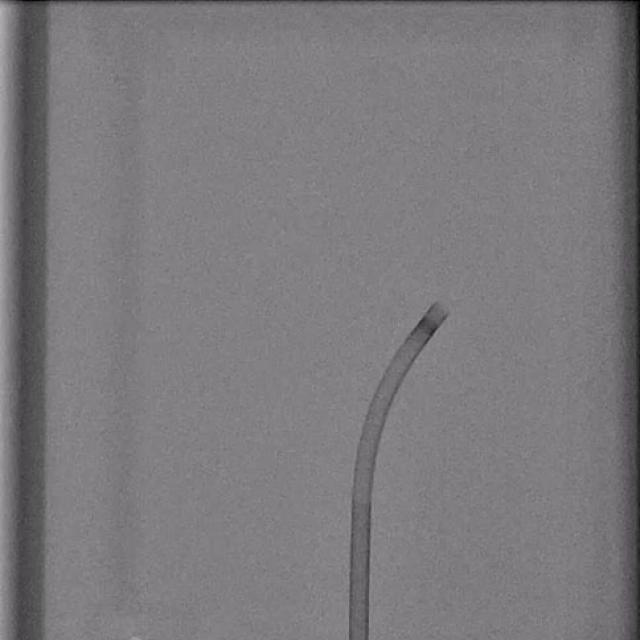bend: (352, 491, 372, 505)
entry: (351, 635, 368, 640)
marker: (416, 316, 439, 337)
tip: (433, 303, 449, 318)
